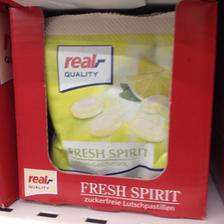Suessigkeit: (46, 14, 172, 177)
